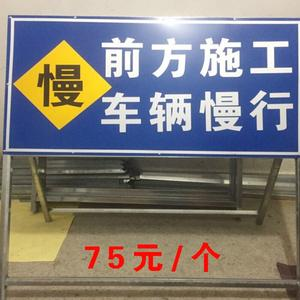sign: (7, 16, 297, 146)
